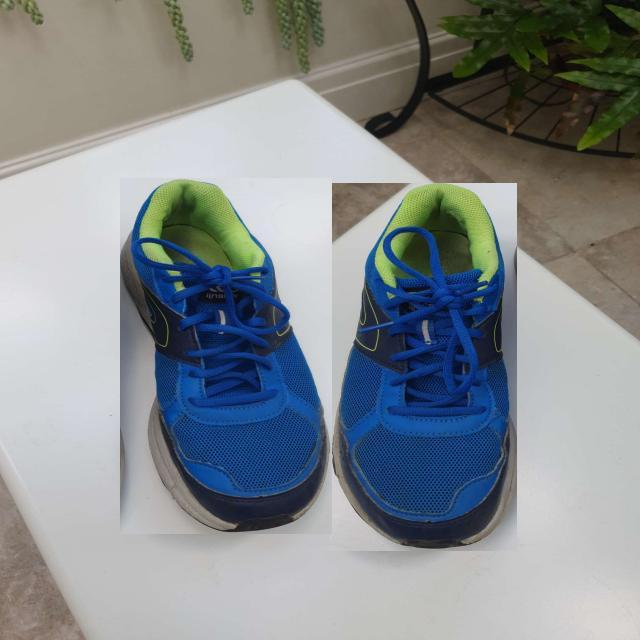shoes: (120, 178, 332, 534), (329, 184, 517, 552)
